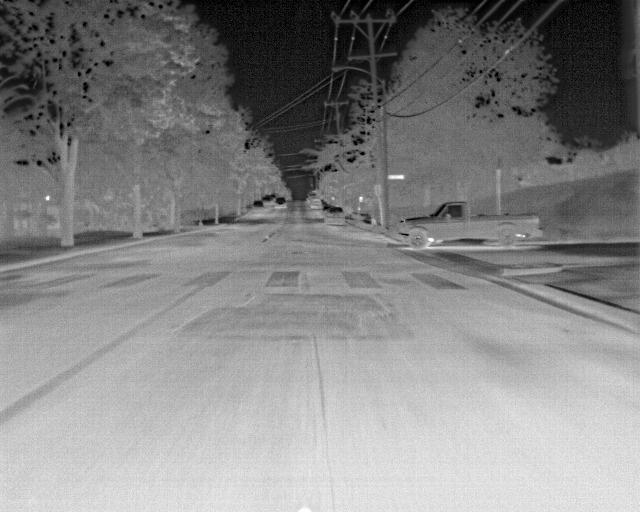car: (394, 190, 559, 268), (319, 202, 366, 242), (260, 184, 288, 216), (306, 191, 331, 220), (253, 192, 272, 219)
